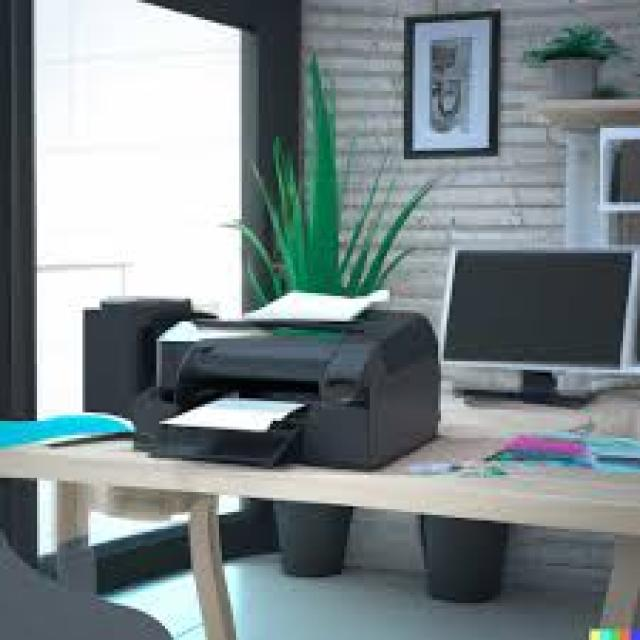printer: (132, 286, 446, 476)
